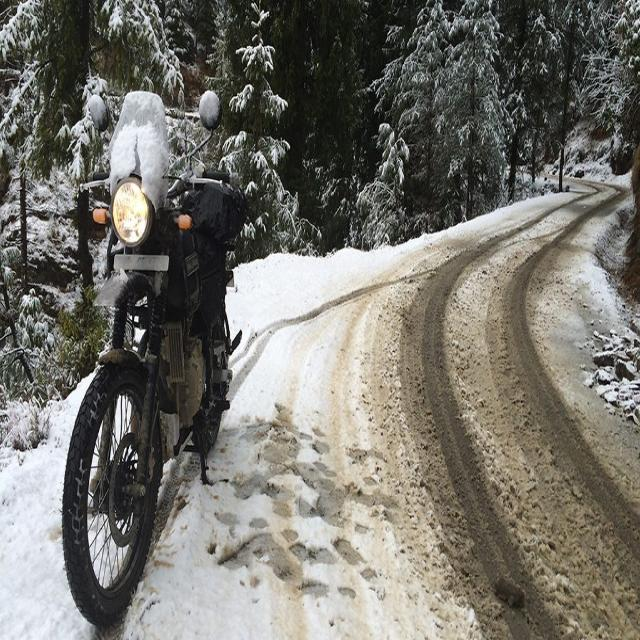motorcycle: (62, 92, 248, 624)
